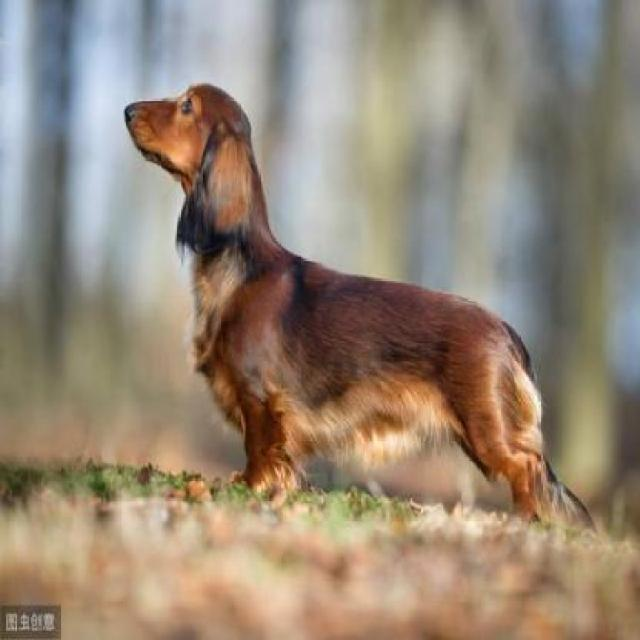Dog: (122, 83, 596, 543)
